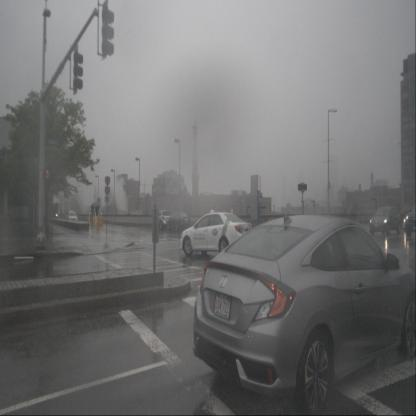vehicle-car: (192, 214, 416, 416), (180, 212, 252, 257), (370, 206, 402, 235), (167, 212, 191, 232), (153, 210, 172, 230), (405, 201, 415, 237), (64, 211, 78, 224)
